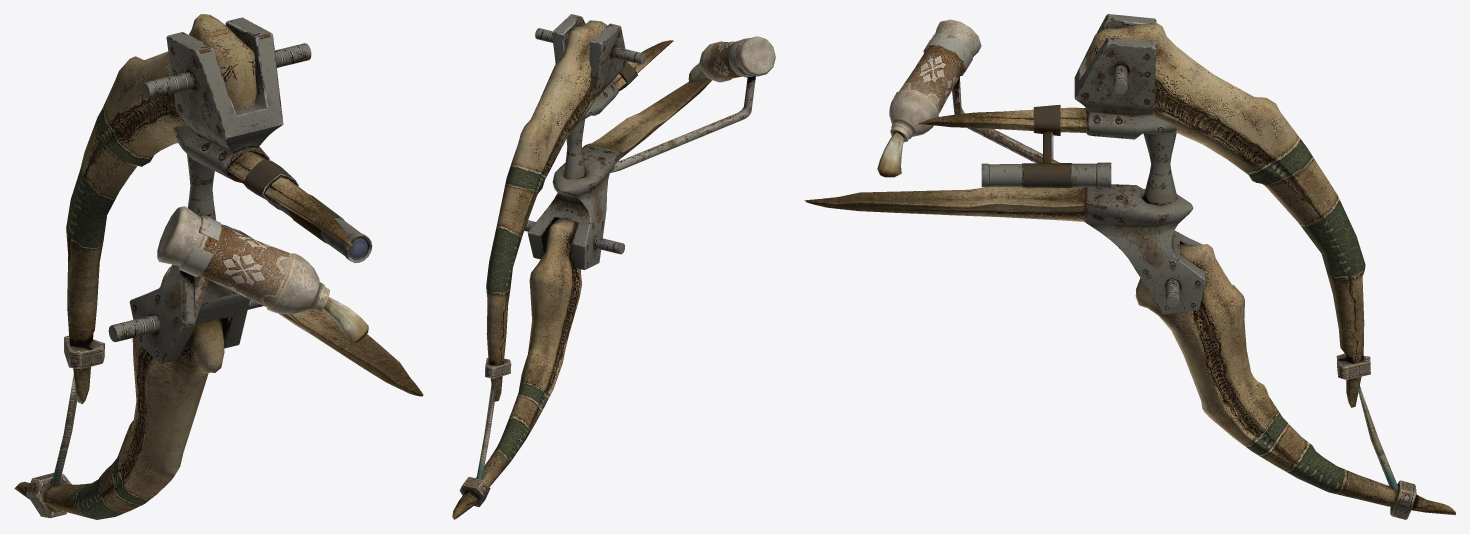
File: bow007 Folded.fbx
3 views of the same model, side by side, from view 1: azimuth 30°, elevation 25°; view 2: azimuth 150°, elevation 25°; view 3: azimuth 270°, elevation 25° (orthographic). The views are drawn at different scales.
Parts seen in each view (by area): view 1: bow007 Folded; view 2: bow007 Folded; view 3: bow007 Folded.
Boxes of the visible parts, box(x1,y1,x2,y2) form: bow007 Folded: box(14, 14, 423, 519); bow007 Folded: box(452, 14, 775, 519); bow007 Folded: box(804, 14, 1455, 519).
Bounding box in the file's own units: 0.5378 × 1.25 × 1.49.
Materials: 1 (1 with a texture image).
